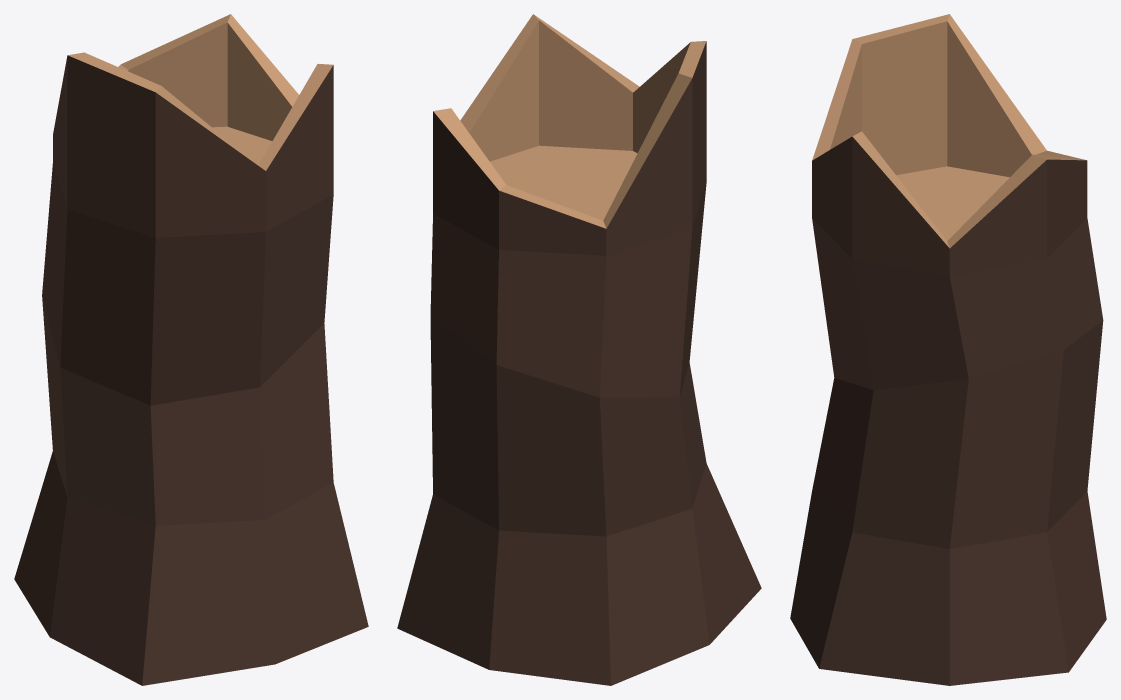
Rendered from Tree Stump.fbx.
The picture shows the model from 3 angles, left to right: view 1: azimuth 30°, elevation 25°; view 2: azimuth 150°, elevation 25°; view 3: azimuth 270°, elevation 25°; orthographic projection. The views are drawn at different scales.
Parts seen in each view (by area): view 1: Log_Stump; view 2: Log_Stump; view 3: Log_Stump.
Part boxes in pixels (left/top/right/bottom): Log_Stump: left=14, top=14, right=368, bottom=685; Log_Stump: left=397, top=14, right=761, bottom=685; Log_Stump: left=790, top=14, right=1106, bottom=685.
Bounding box in the file's own units: 1.18 × 2.26 × 1.18.
